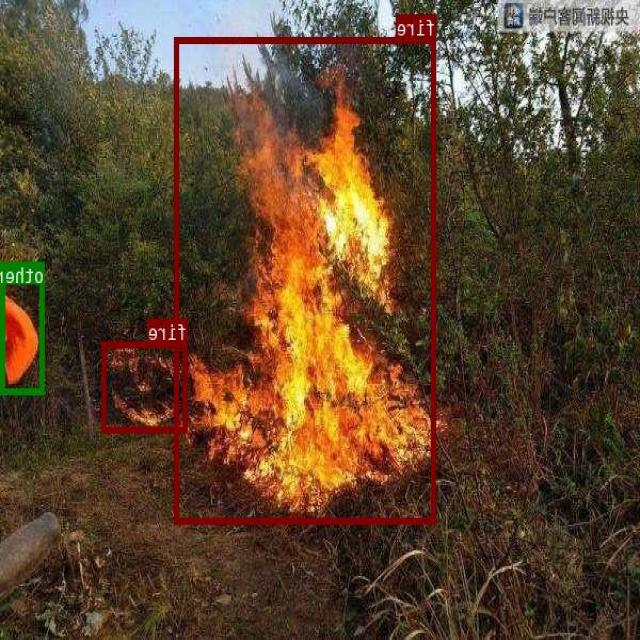fire: (176, 36, 437, 522), (102, 341, 188, 431)
other: (2, 261, 45, 393)
